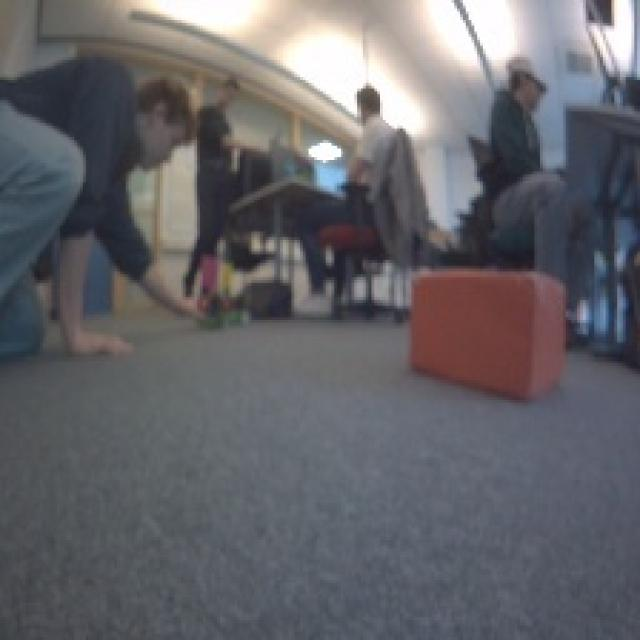robot: (193, 287, 229, 332), (220, 295, 254, 332)
target: (406, 263, 568, 400)
